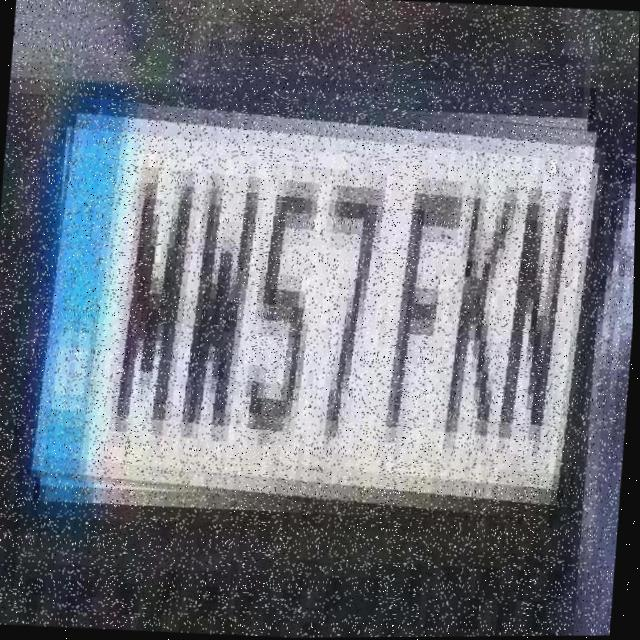LicensePlate: (32, 84, 612, 527)
